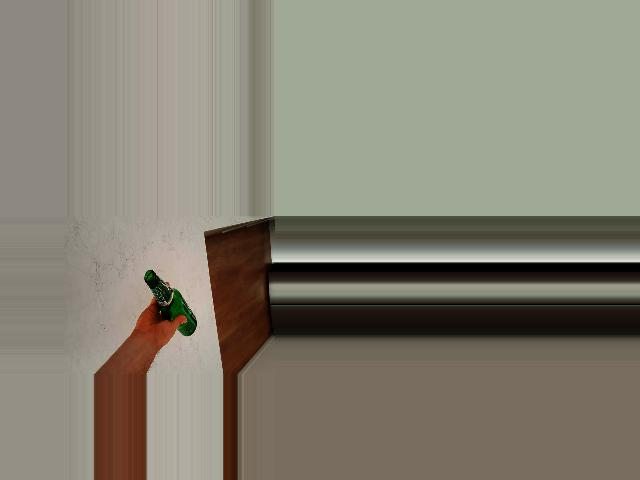beer: (143, 269, 196, 336)
